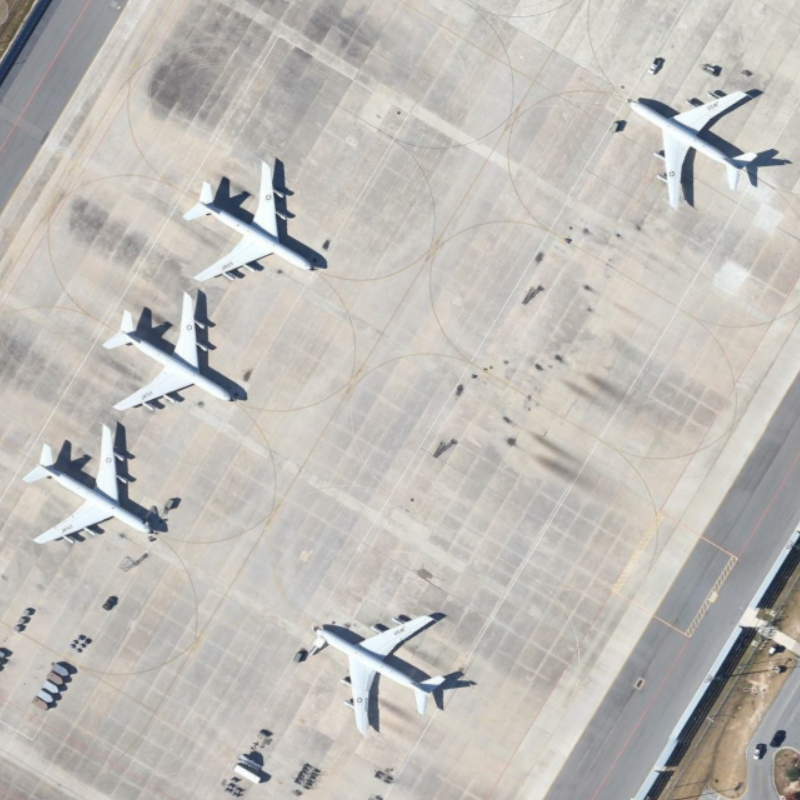A11: (181, 155, 322, 287), (19, 418, 160, 549), (620, 85, 763, 213), (310, 611, 454, 735), (99, 288, 237, 416)
